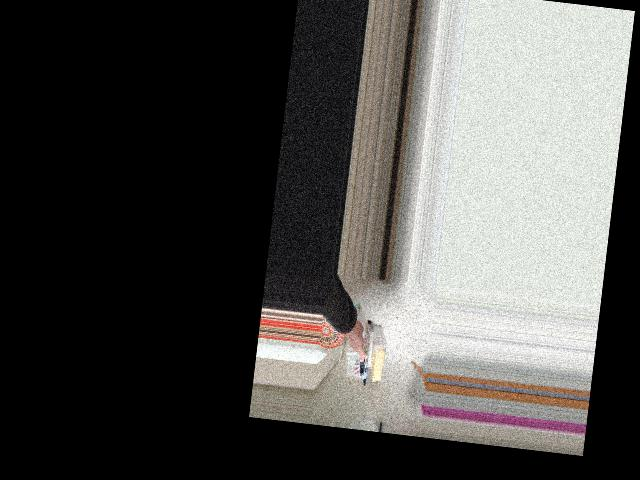cheese: (321, 312, 394, 387)
